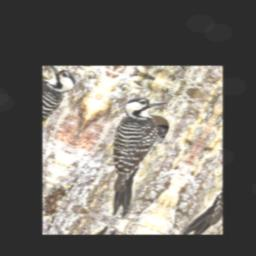Woodpecker: (70, 89, 187, 221)
